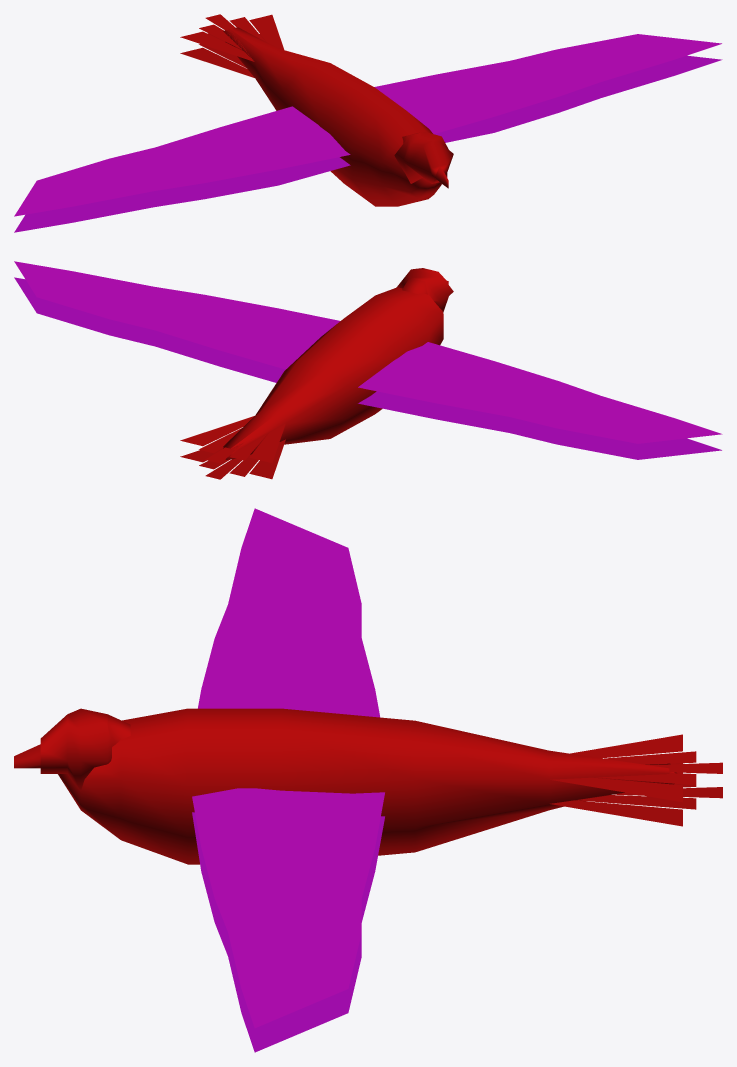
Rendered from littleauk.glb.
3 renders of one model, top to bottom at view 1: azimuth 30°, elevation 25°; view 2: azimuth 150°, elevation 25°; view 3: azimuth 270°, elevation 25°, orthographic. The views are drawn at different scales.
Visible parts, largest first — view 1: bird; view 2: bird; view 3: bird.
Boxes of the visible parts, <box> form: bird: <box>14,14,722,232</box>; bird: <box>14,261,722,479</box>; bird: <box>14,508,722,1052</box>.
Size of the model in its own units: 0.3594 by 0.043 by 0.207.
